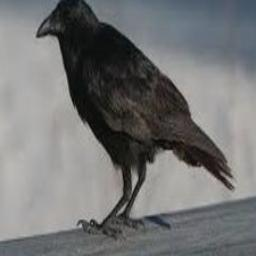Crow: (36, 0, 238, 238)
